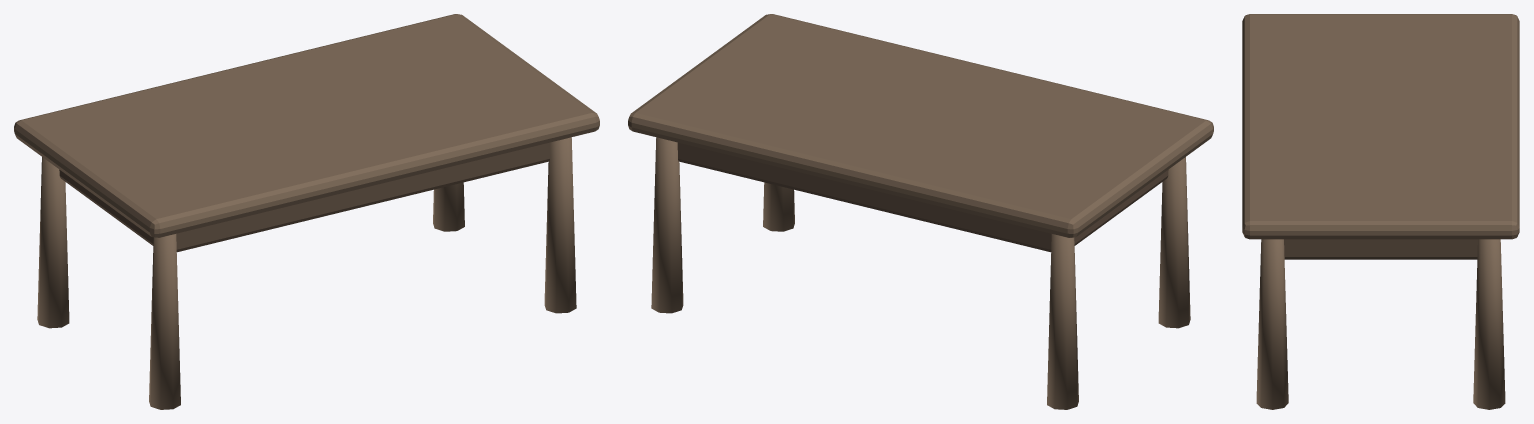
File: table_1_0x0_55x0_42.glb
The picture shows the model from 3 angles, left to right: view 1: azimuth 30°, elevation 25°; view 2: azimuth 150°, elevation 25°; view 3: azimuth 270°, elevation 25°; orthographic projection. The views are drawn at different scales.
Visible parts, largest first — view 1: table_1_0x0_55x0_42; view 2: table_1_0x0_55x0_42; view 3: table_1_0x0_55x0_42.
Part boxes in pixels (x1,y1,x2,y2): table_1_0x0_55x0_42: [14, 14, 599, 409]; table_1_0x0_55x0_42: [628, 14, 1213, 409]; table_1_0x0_55x0_42: [1242, 14, 1519, 409].
Bounding box in the file's own units: 1 × 0.42 × 0.55.
